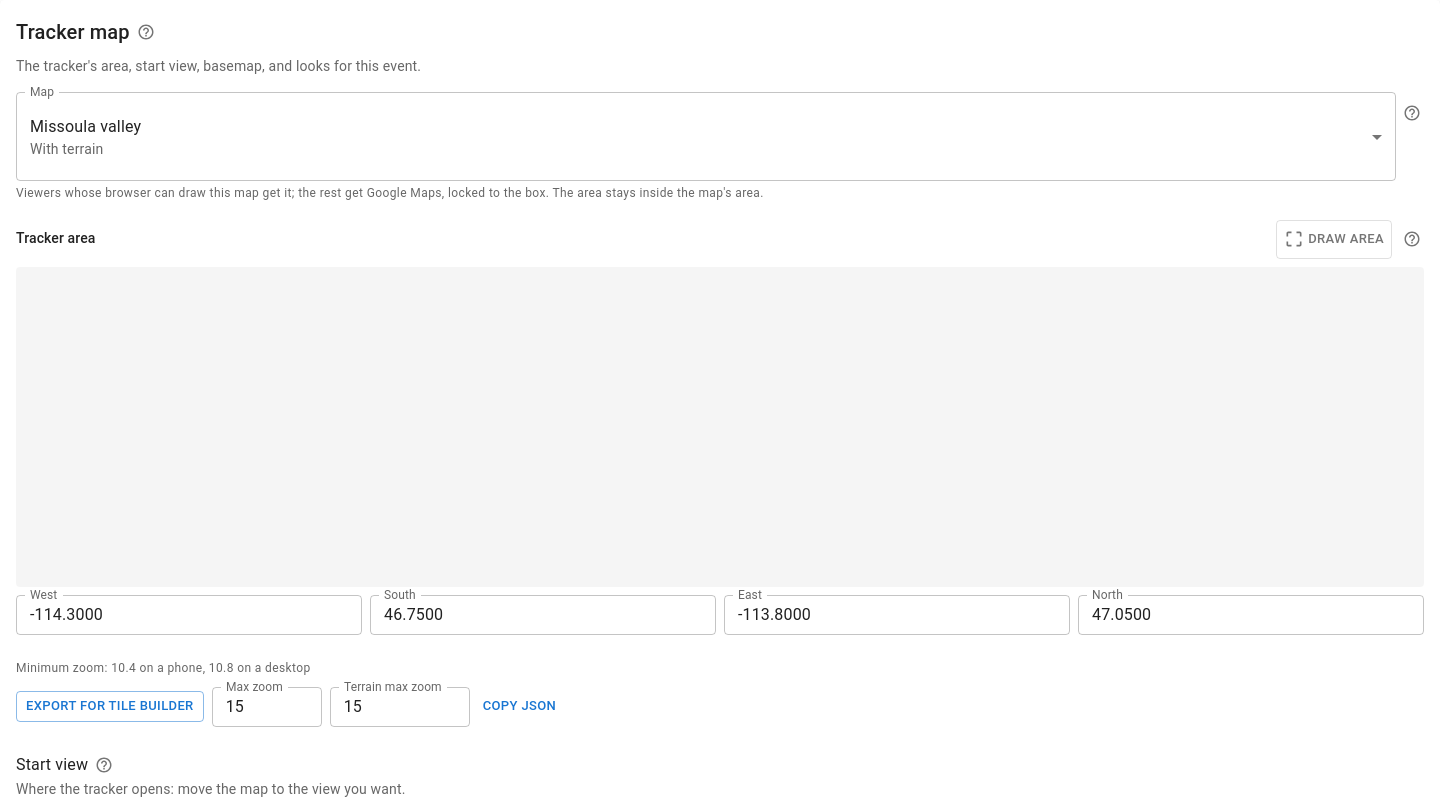
it: TrackerMapSection › reads terrain from the terrain archive, never the measured sizes
Click the dropdown at (86, 136), box [30,116,141,156]
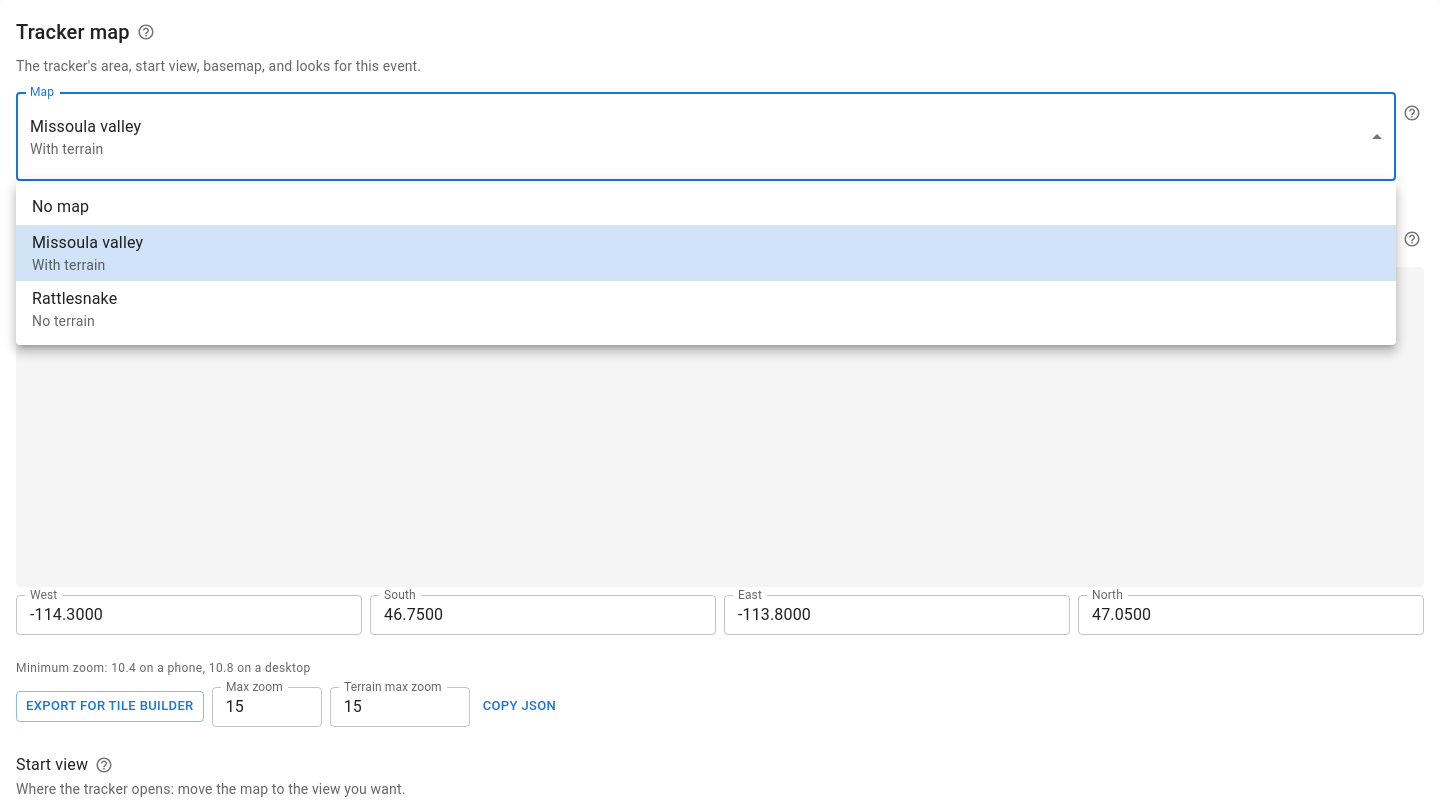
Expected: the options read "No map", "Missoula valleyWith terrain", "RattlesnakeNo terrain", in this order, [32,197,89,216]; [16,225,1396,281]; [32,289,117,329]
